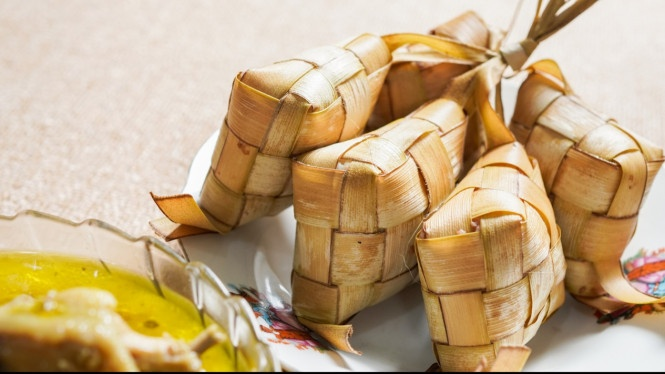ketupat: (290, 98, 462, 314), (416, 142, 566, 371)
